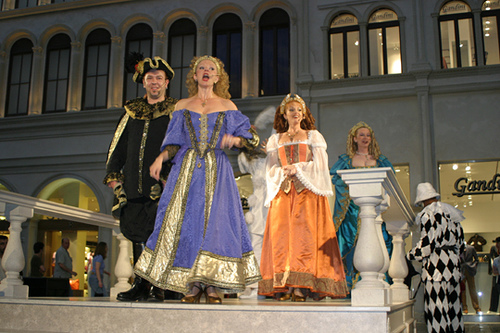without_mask: (188, 54, 228, 94), (278, 96, 313, 126), (139, 65, 169, 98), (353, 125, 376, 150), (59, 237, 72, 251)
